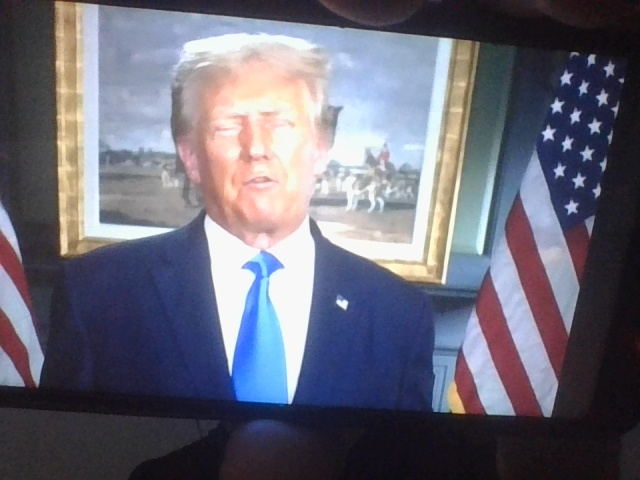fake: (186, 24, 338, 239)
